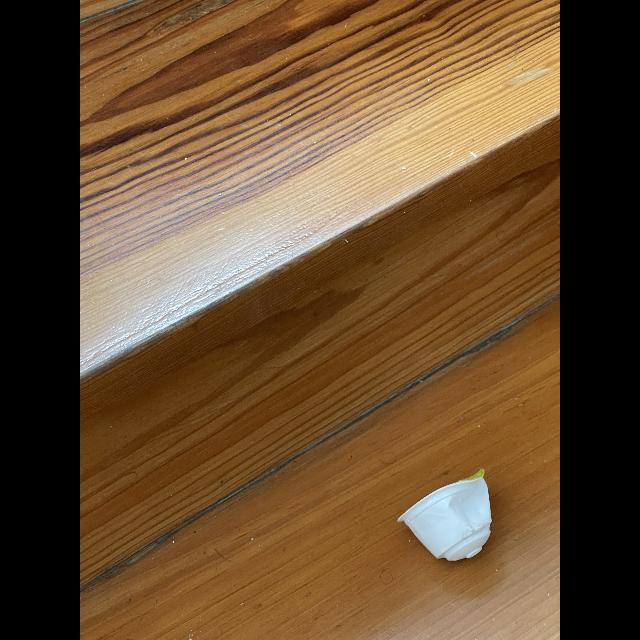damaged_capsule: (394, 466, 508, 566)
